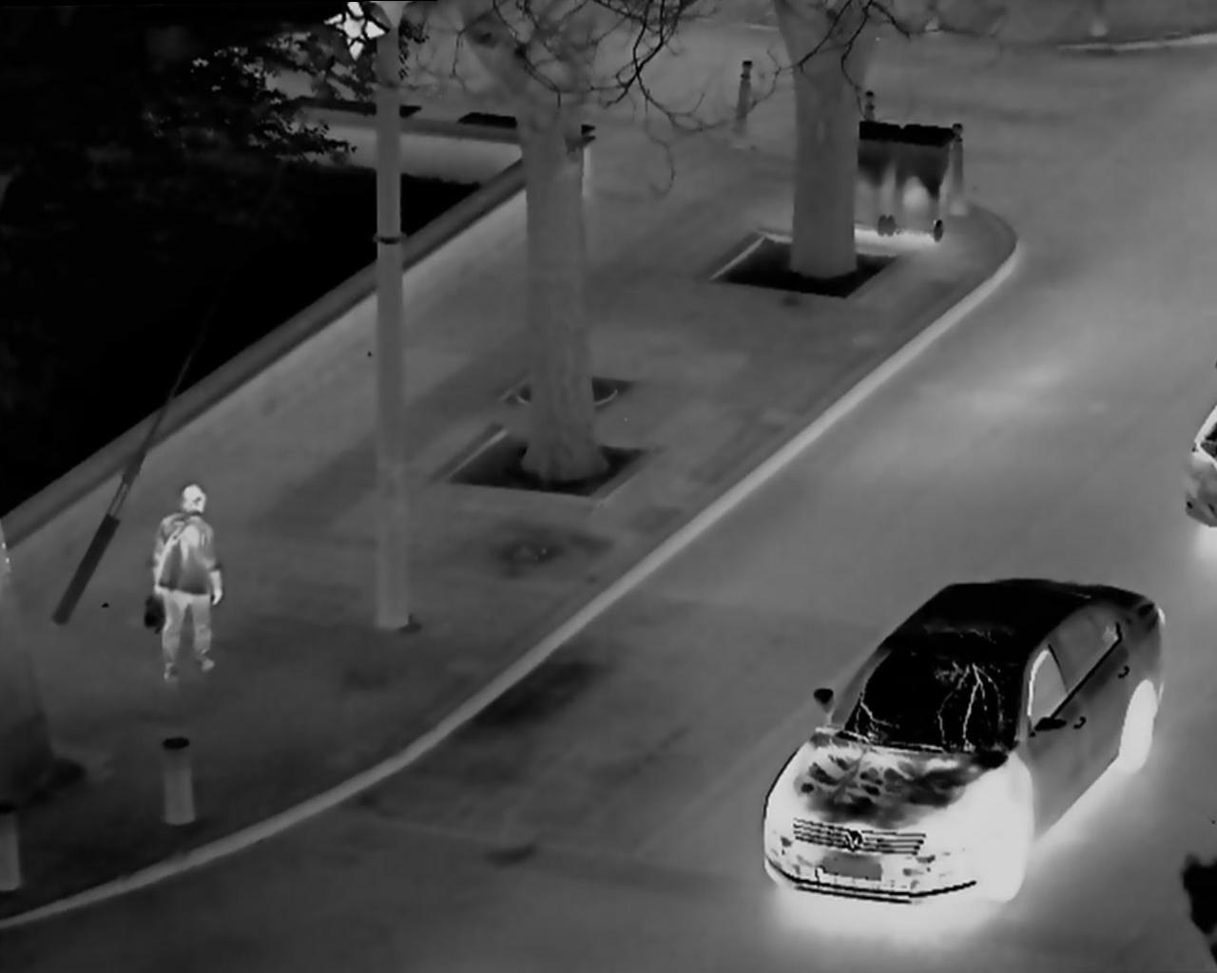person: (139, 471, 244, 682)
